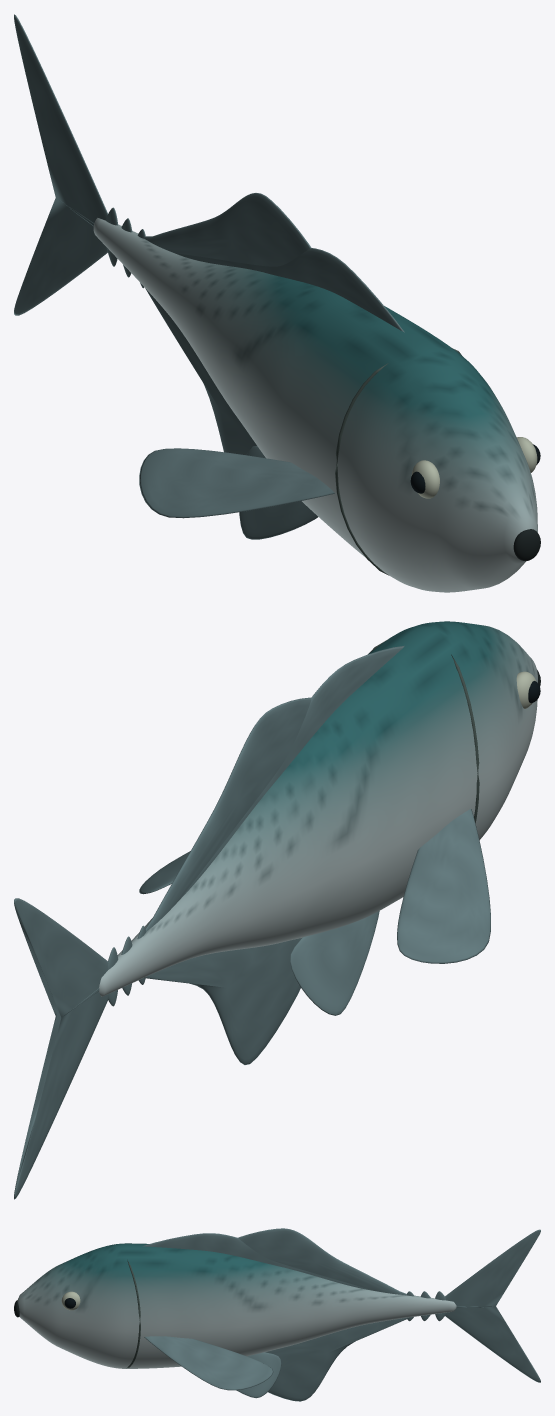
File: indian_mackerel.glb
3 renders of one model, top to bottom at view 1: azimuth 30°, elevation 25°; view 2: azimuth 150°, elevation 25°; view 3: azimuth 270°, elevation 25°, orthographic. The views are drawn at different scales.
Parts seen in each view (by area): view 1: Kuroshio.indian_mackerel.Body; view 2: Kuroshio.indian_mackerel.Body; view 3: Kuroshio.indian_mackerel.Body.
Boxes of the visible parts, x1=… form: Kuroshio.indian_mackerel.Body: x1=14, y1=14, x2=540, y2=592; Kuroshio.indian_mackerel.Body: x1=14, y1=621, x2=540, y2=1199; Kuroshio.indian_mackerel.Body: x1=14, y1=1228, x2=540, y2=1401.
Size of the model in its own units: 0.1244 by 0.1242 by 0.3424.
